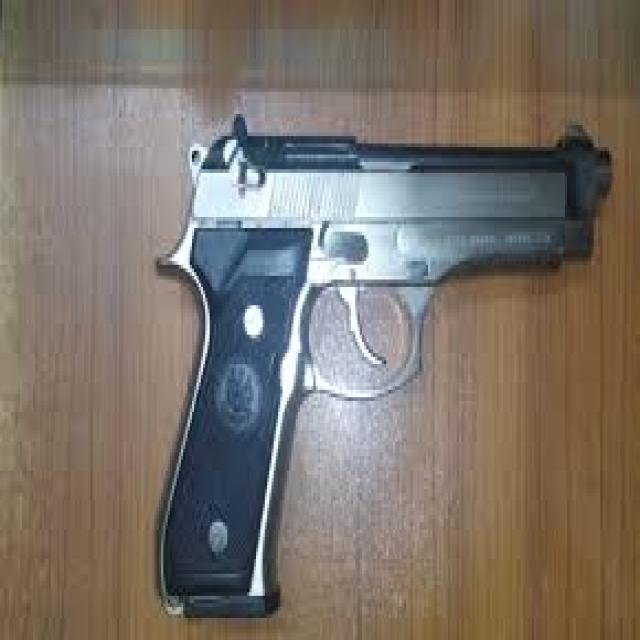Gun: (154, 64, 619, 640)
